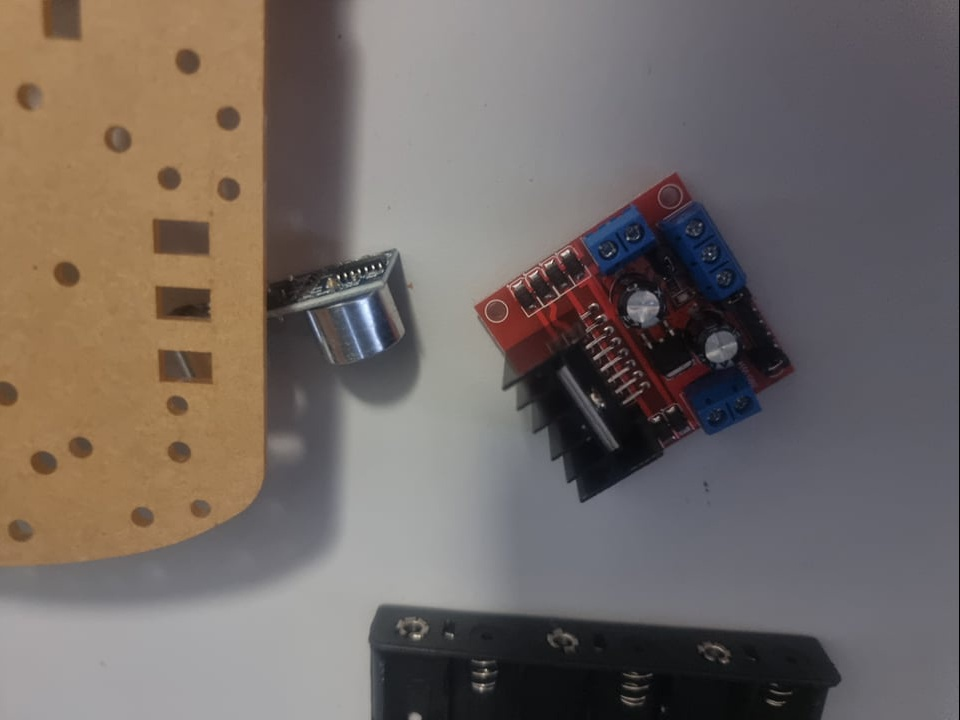BATTERY BOX: (363, 598, 846, 720)
MOTOR: (475, 175, 803, 509)
SENSOR: (274, 238, 416, 389)
